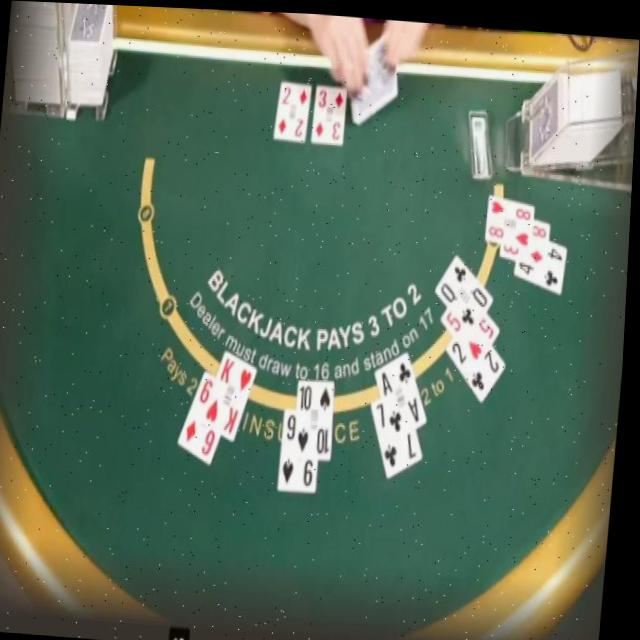Card-10: (299, 378, 338, 456)
Card-2: (449, 333, 509, 398), (274, 77, 312, 138)
Card-3: (312, 82, 347, 140)
Card-4: (517, 236, 569, 288)
Card-5: (444, 303, 502, 358)
Card-6: (181, 367, 224, 462)
Card-7: (374, 395, 427, 475)
Card-8: (487, 189, 536, 244), (502, 213, 552, 262)
Card-9: (282, 405, 322, 489)
Card-A: (378, 348, 430, 437)
Card-K: (205, 347, 261, 442)
Card-Q: (437, 250, 496, 328)
